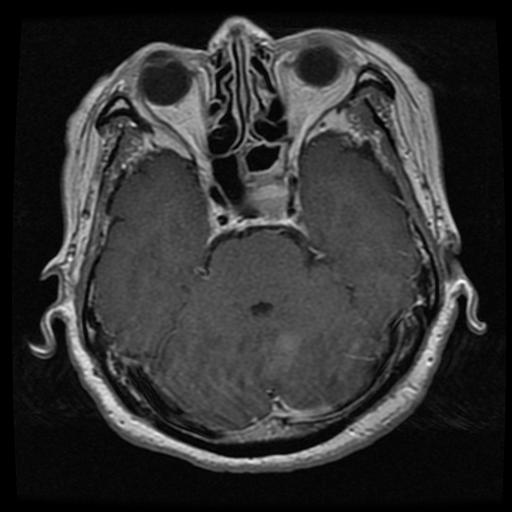Pituirity_tumour: (249, 184, 286, 218)
